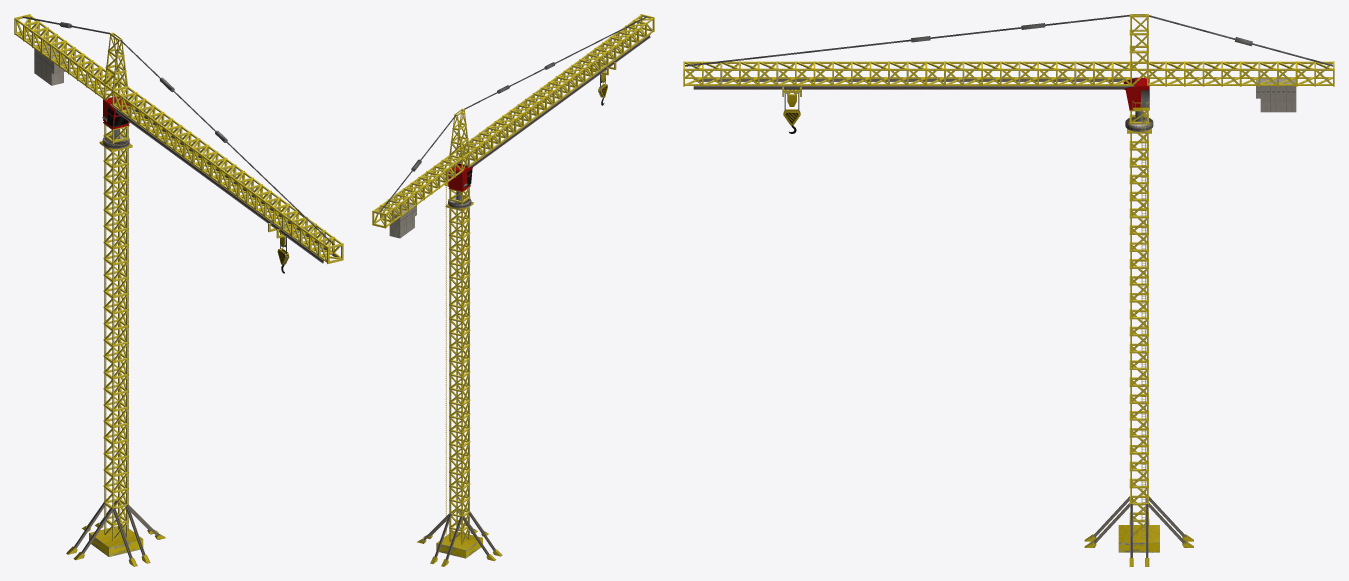
File: tower_crane.dae
3 views of the same model, side by side, from view 1: azimuth 30°, elevation 25°; view 2: azimuth 150°, elevation 25°; view 3: azimuth 270°, elevation 25° (orthographic). The views are drawn at different scales.
Parts seen in each view (by area): view 1: Box084; view 2: Box084; view 3: Box084.
Boxes of the visible parts, x1=… form: Box084: x1=14, y1=14, x2=343, y2=566; Box084: x1=372, y1=14, x2=654, y2=566; Box084: x1=683, y1=14, x2=1334, y2=566.
Size of the model in its own units: 258 by 1539 by 1379.
